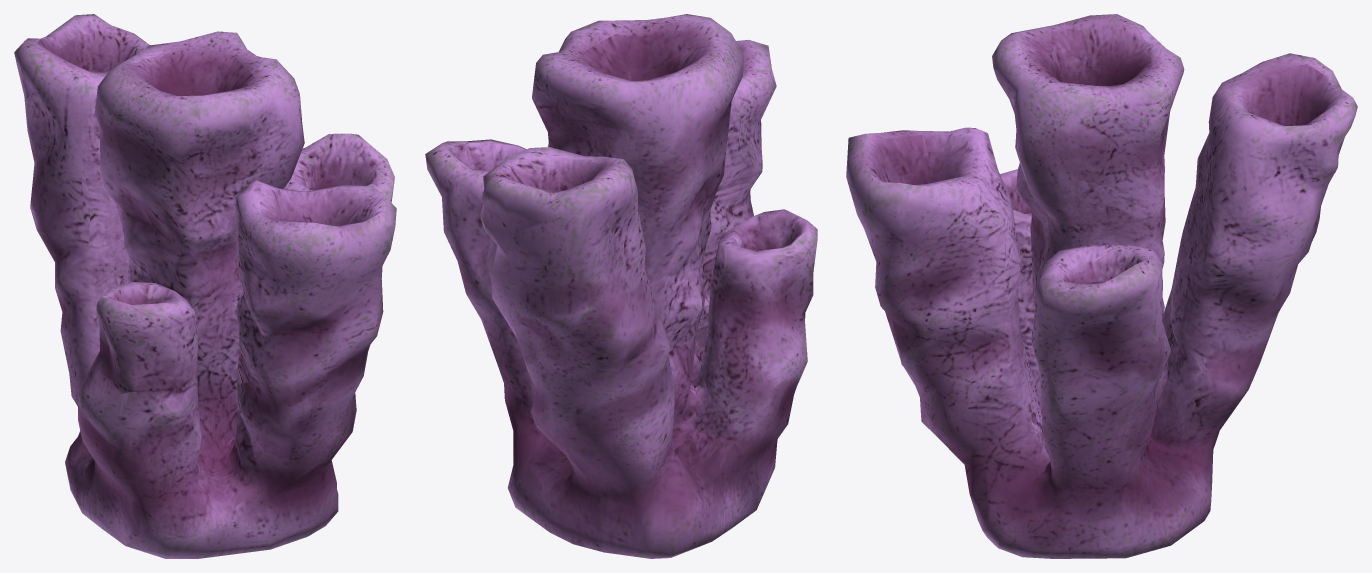
The model's file is Coral_1_中模.fbx.
3 views of the same model, side by side, from view 1: azimuth 30°, elevation 25°; view 2: azimuth 150°, elevation 25°; view 3: azimuth 270°, elevation 25° (orthographic). The views are drawn at different scales.
Parts seen in each view (by area): view 1: PurpleCoral_Medium; view 2: PurpleCoral_Medium; view 3: PurpleCoral_Medium.
Part boxes in pixels (bbox=[...]): PurpleCoral_Medium: bbox=[14, 14, 396, 558]; PurpleCoral_Medium: bbox=[425, 14, 817, 558]; PurpleCoral_Medium: bbox=[846, 14, 1357, 558].
Bounding box in the file's own units: 562 × 744 × 741.
Materials: 1 (1 with a texture image).
